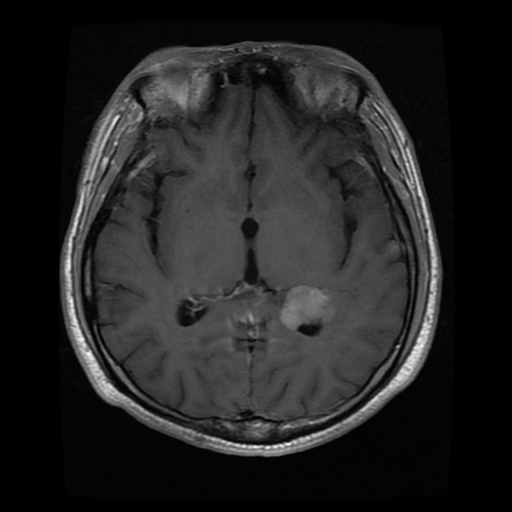meningioma: (279, 283, 335, 330)
